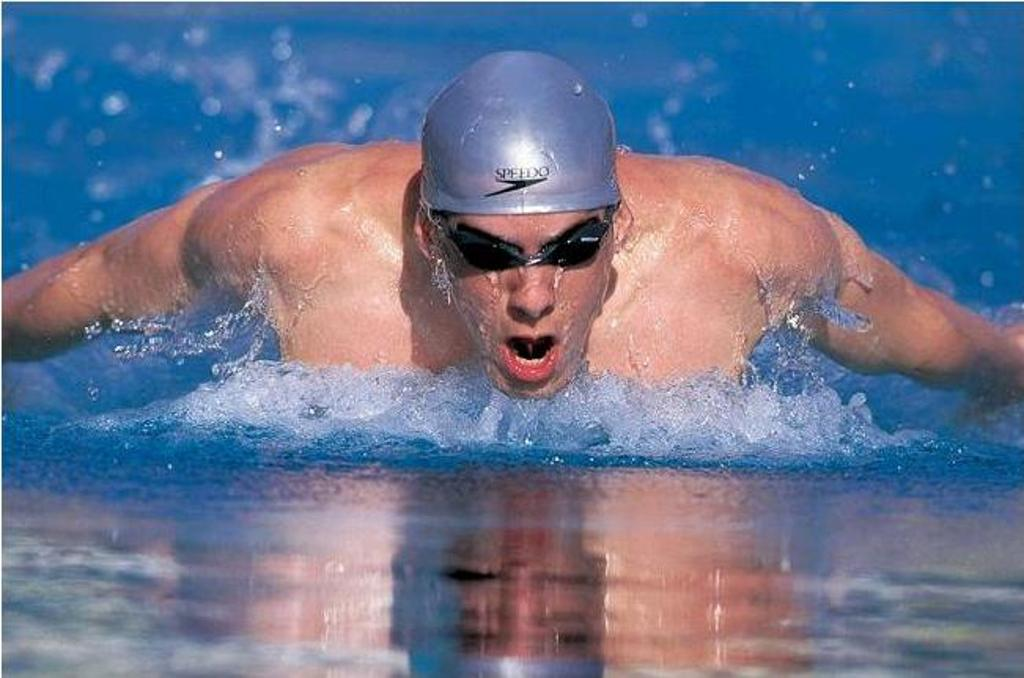face: (440, 180, 608, 404)
